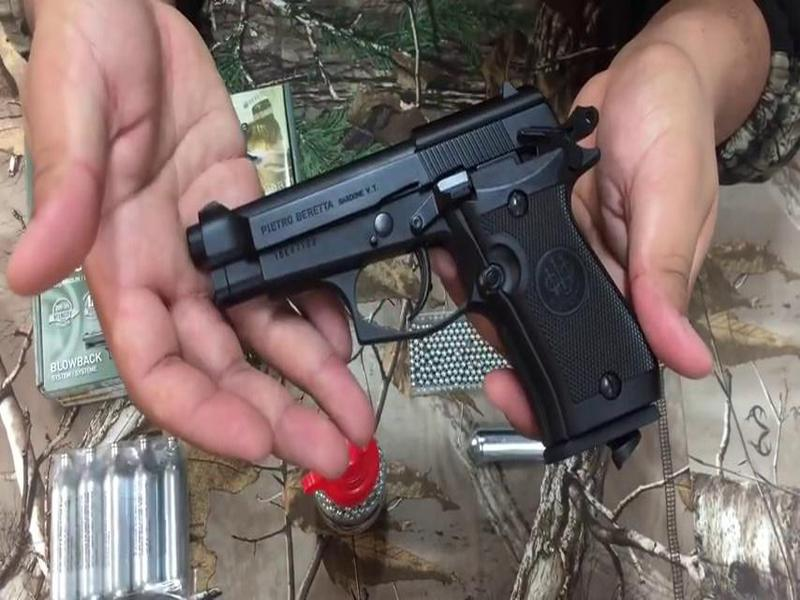Pistola: (171, 59, 683, 468)
